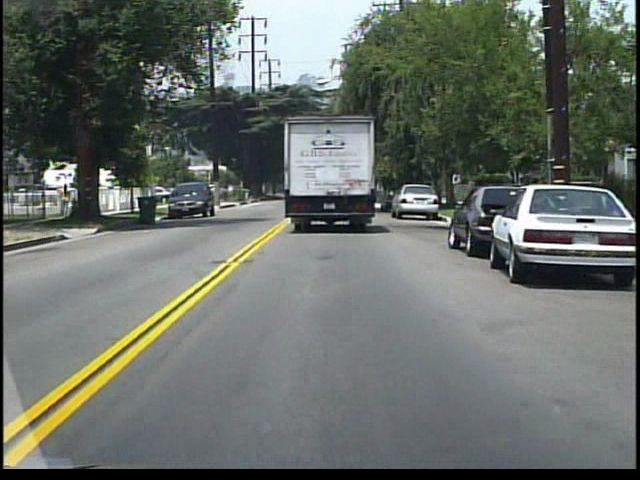person: (62, 180, 75, 217)
